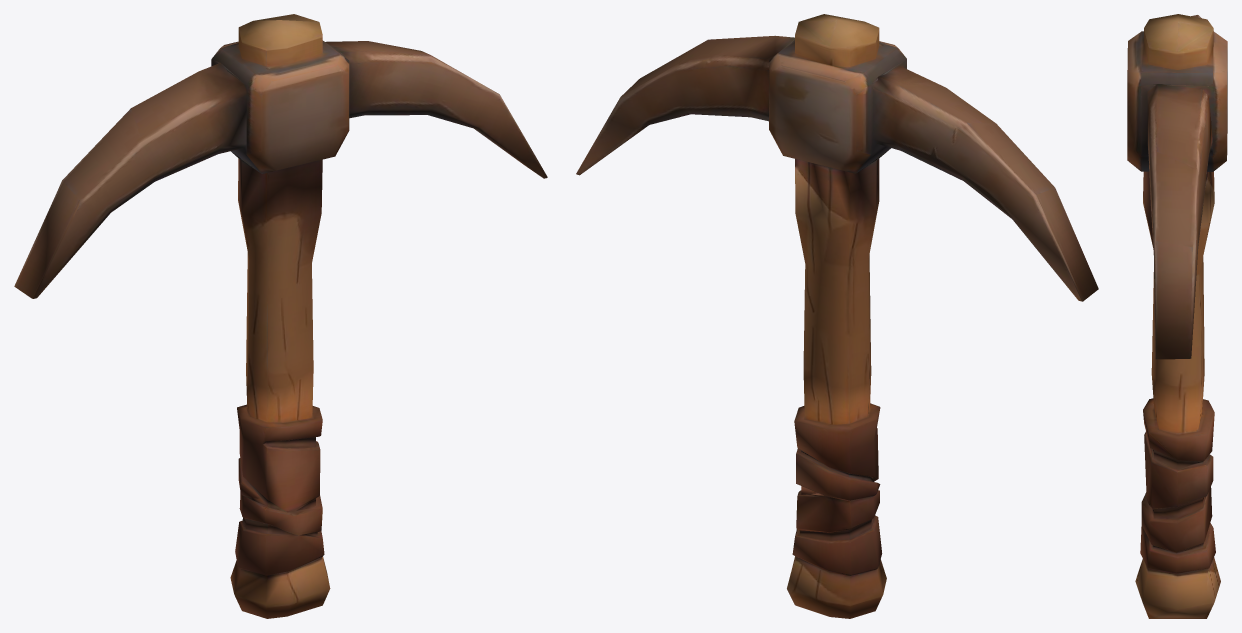
File: copper_mining_pick.glb
The picture shows the model from 3 angles, left to right: view 1: azimuth 30°, elevation 25°; view 2: azimuth 150°, elevation 25°; view 3: azimuth 270°, elevation 25°; orthographic projection.
Parts seen in each view (by area): view 1: tripo_node_a2e50a59-0f21-4a02-a85e-b94199011d19; view 2: tripo_node_a2e50a59-0f21-4a02-a85e-b94199011d19; view 3: tripo_node_a2e50a59-0f21-4a02-a85e-b94199011d19.
Part boxes in pixels (x1,y1,x2,y2): tripo_node_a2e50a59-0f21-4a02-a85e-b94199011d19: [14, 14, 547, 618]; tripo_node_a2e50a59-0f21-4a02-a85e-b94199011d19: [576, 14, 1098, 618]; tripo_node_a2e50a59-0f21-4a02-a85e-b94199011d19: [1127, 14, 1227, 618].
Bounding box in the file's own units: 1.34 × 1.45 × 0.2256.
Materials: 1 (1 with a texture image).
